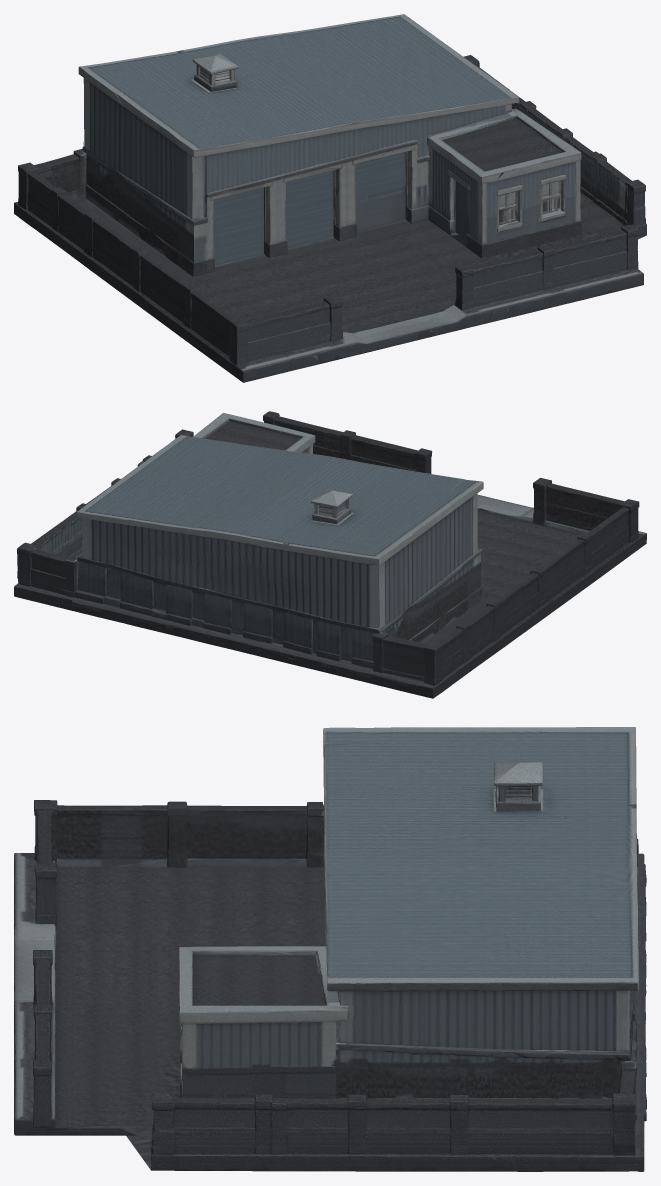
The model's file is building_garage.glb.
The picture shows the model from 3 angles, top to bottom: view 1: azimuth 30°, elevation 25°; view 2: azimuth 150°, elevation 25°; view 3: azimuth 270°, elevation 25°; orthographic projection. The views are drawn at different scales.
Visible parts, largest first — view 1: output_unwrapped; view 2: output_unwrapped; view 3: output_unwrapped.
Part boxes in pixels (left/top/right/bottom): output_unwrapped: left=14, top=14, right=646, bottom=382; output_unwrapped: left=14, top=411, right=646, bottom=698; output_unwrapped: left=14, top=727, right=646, bottom=1171.
Bounding box in the file's own units: 2 × 0.6453 × 1.76.
Materials: 1 (1 with a texture image).
